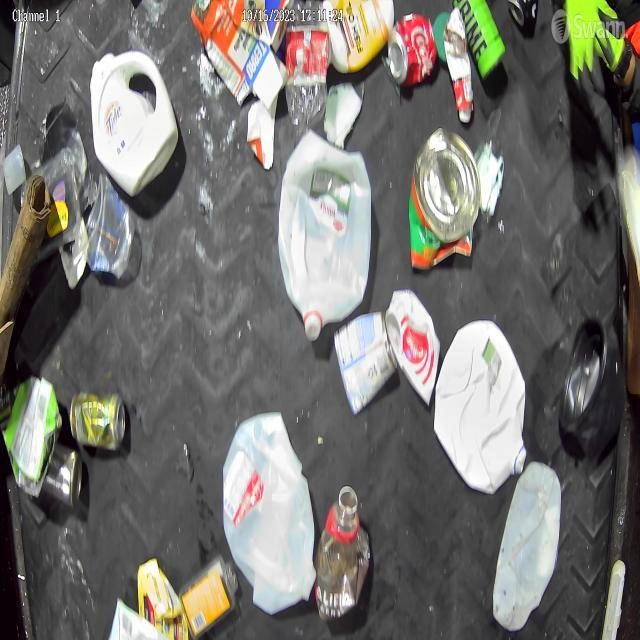can: (388, 8, 438, 90), (70, 382, 126, 452)
milk_jug: (222, 410, 318, 600), (282, 132, 371, 334), (434, 320, 527, 490)
plastic_bottle: (284, 0, 328, 125)
